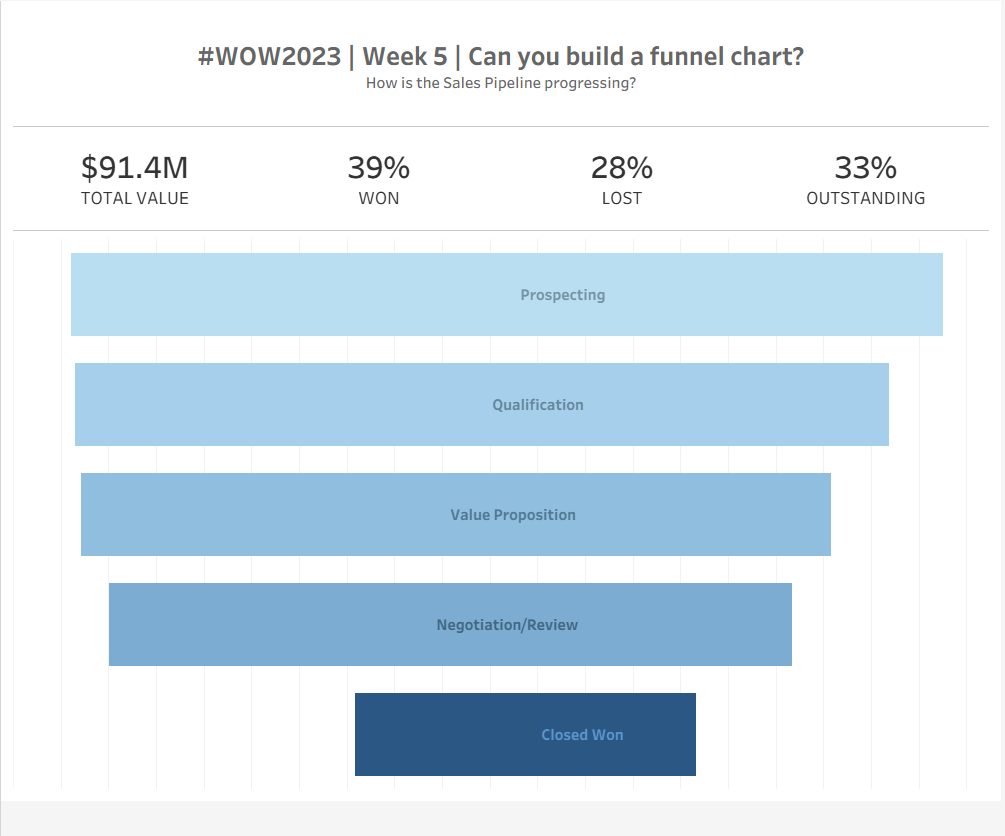

What the dashboard file says about the page in this screenshot:
{"tool":"tableau","page":{"name":"Dashboard 1","canvas":[1000,800],"ordinal":0},"visuals":[{"type":"text","box":[8,8,984,113]},{"type":"worksheet","title":"KPI","mark":"Automatic","box":[8,121,984,113]},{"type":"worksheet","title":"funnel","mark":"GanttBar","rows":["Stage"],"cols":["Value"],"box":[8,234,984,558]}]}

Visuals, with their boxes on the page's 1000x800 design canvas (x1, y1, x2, y2). These are canvas units, not pixel positions in the 1005x836 screenshot, which may show the page scaled, cropped or inside an application window:
text: 8/8/992/121
"KPI" worksheet: 8/121/992/234
"funnel" worksheet (GanttBar marks): 8/234/992/792
